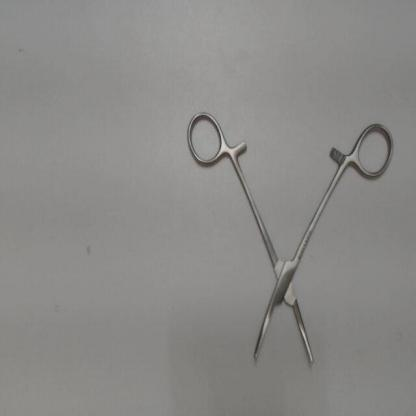Crile Artery Forceps: (176, 103, 396, 375)
